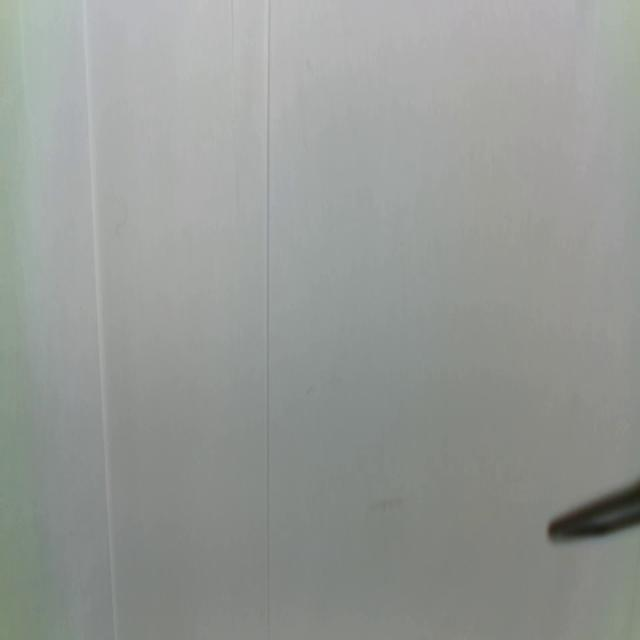crease: (80, 1, 121, 640), (262, 0, 275, 640)
